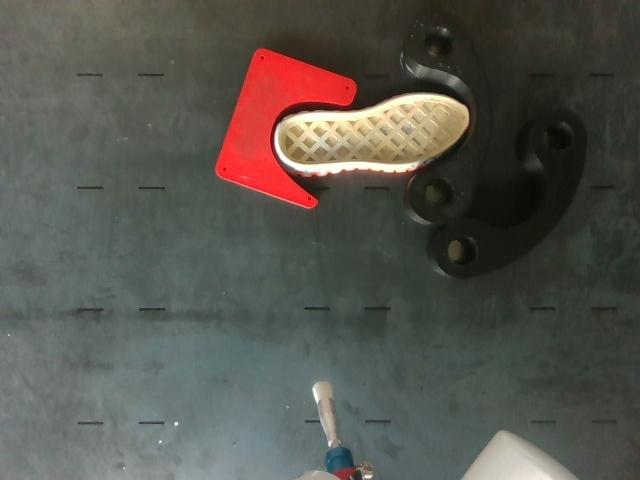shoes: (278, 95, 468, 165)
